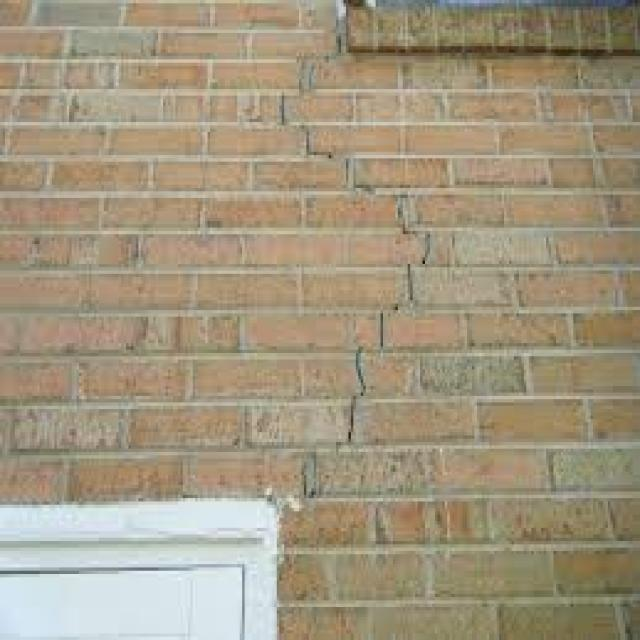Crack: (277, 17, 435, 508)
